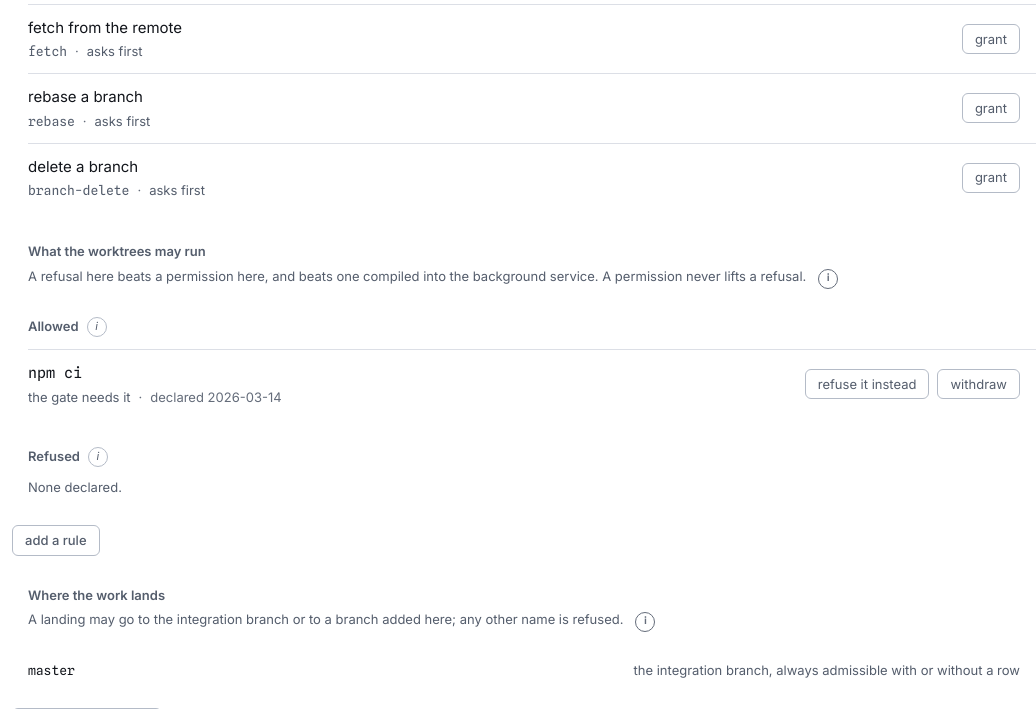
Test: what the worktrees may run › warns that re-declaring with an empty note erases the one on the rule
The width and height of the screenshot is (1036, 709).
(page scrolled)
Click the button "add a rule" at (56, 540), box top-left (12, 524), bottom-right (100, 556)
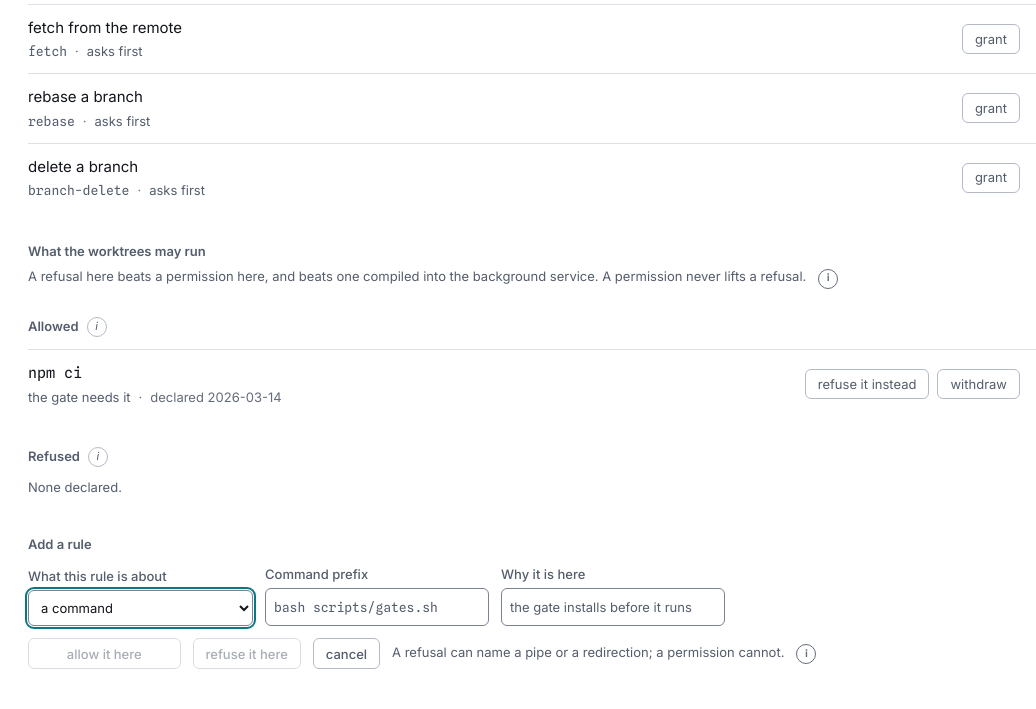
Type "NPM  CI" into the field labelled "Command prefix" at (377, 607), box top-left (265, 588), bottom-right (489, 626)
(page scrolled)
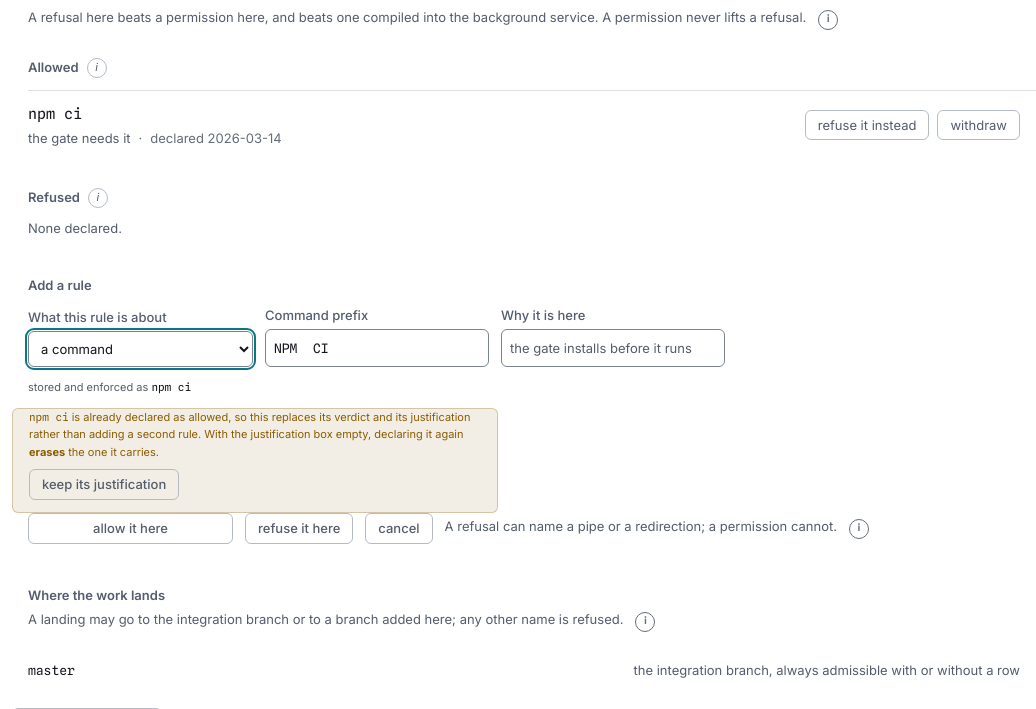
Check: the text "is already declared as" shows "erases", box top-left (29, 444), bottom-right (65, 458)
Click the button "keep its justification" at (104, 484), box top-left (29, 469), bottom-right (179, 500)
(page scrolled)
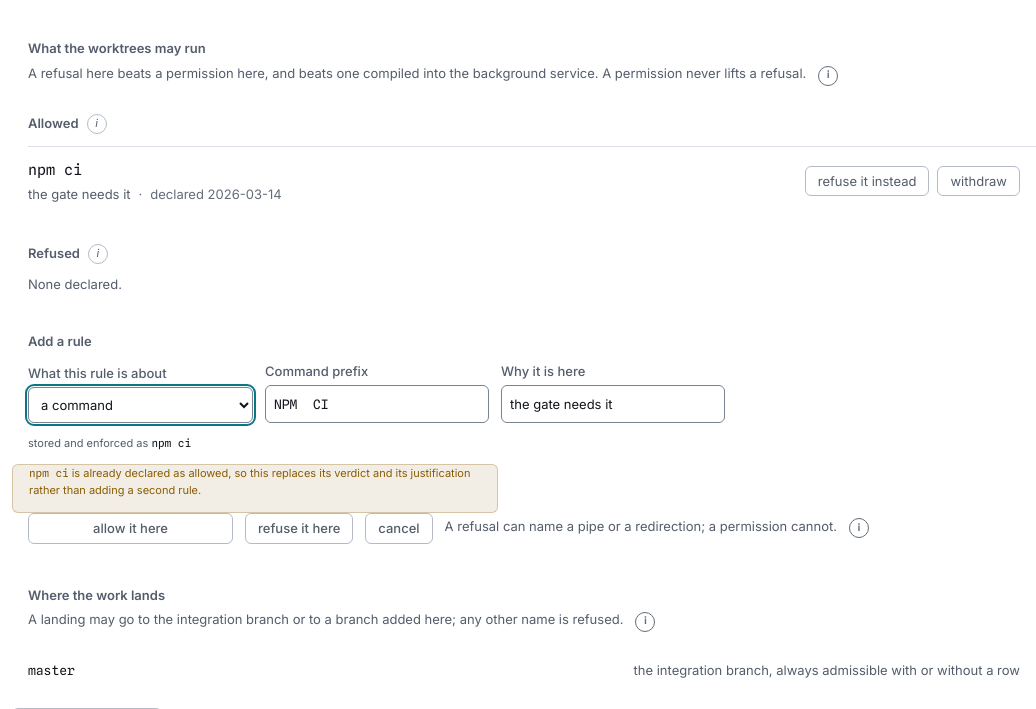
Check: the field labelled "Why it is here" holds "the gate needs it", box top-left (501, 385), bottom-right (725, 423)
